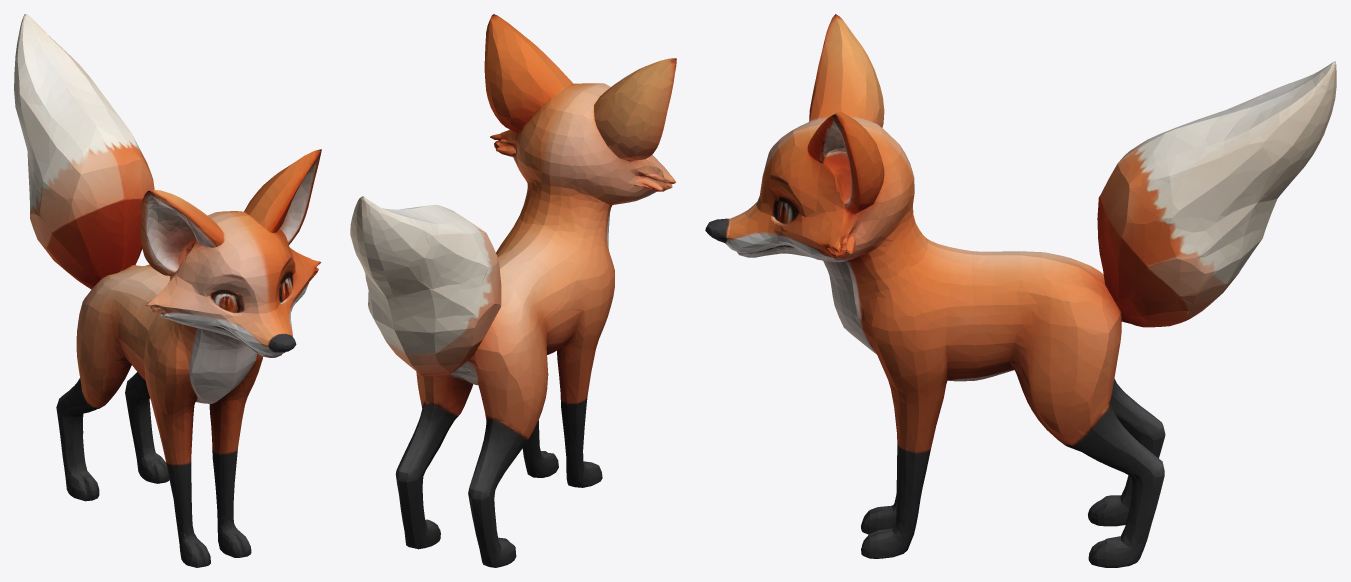
File: red_fox.glb
The picture shows the model from 3 angles, left to right: view 1: azimuth 30°, elevation 25°; view 2: azimuth 150°, elevation 25°; view 3: azimuth 270°, elevation 25°; orthographic projection. The views are drawn at different scales.
Visible parts, largest first — view 1: geometry_0; view 2: geometry_0; view 3: geometry_0.
Part boxes in pixels (bbox=[...]): geometry_0: bbox=[14, 14, 321, 567]; geometry_0: bbox=[350, 14, 676, 567]; geometry_0: bbox=[705, 14, 1336, 567].
Size of the model in its own units: 0.3864 by 0.8366 by 0.999.
Materials: 1 (1 with a texture image).
